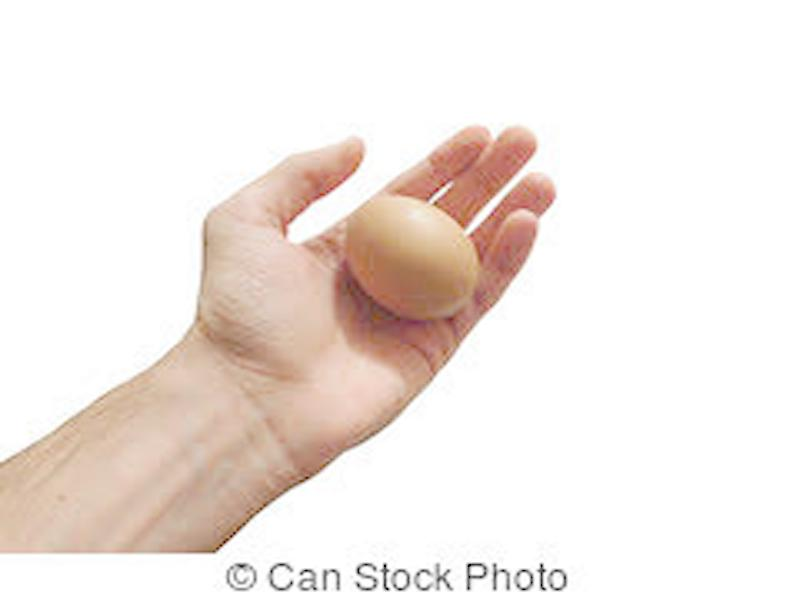Eggs: (350, 200, 480, 317)
